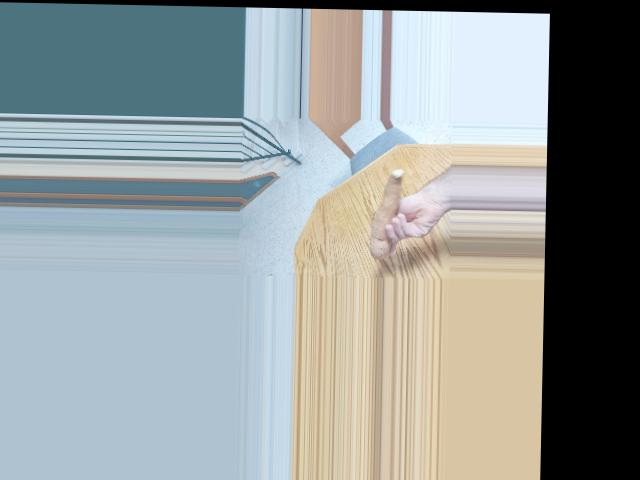sweet_potato: (365, 172, 407, 255)
